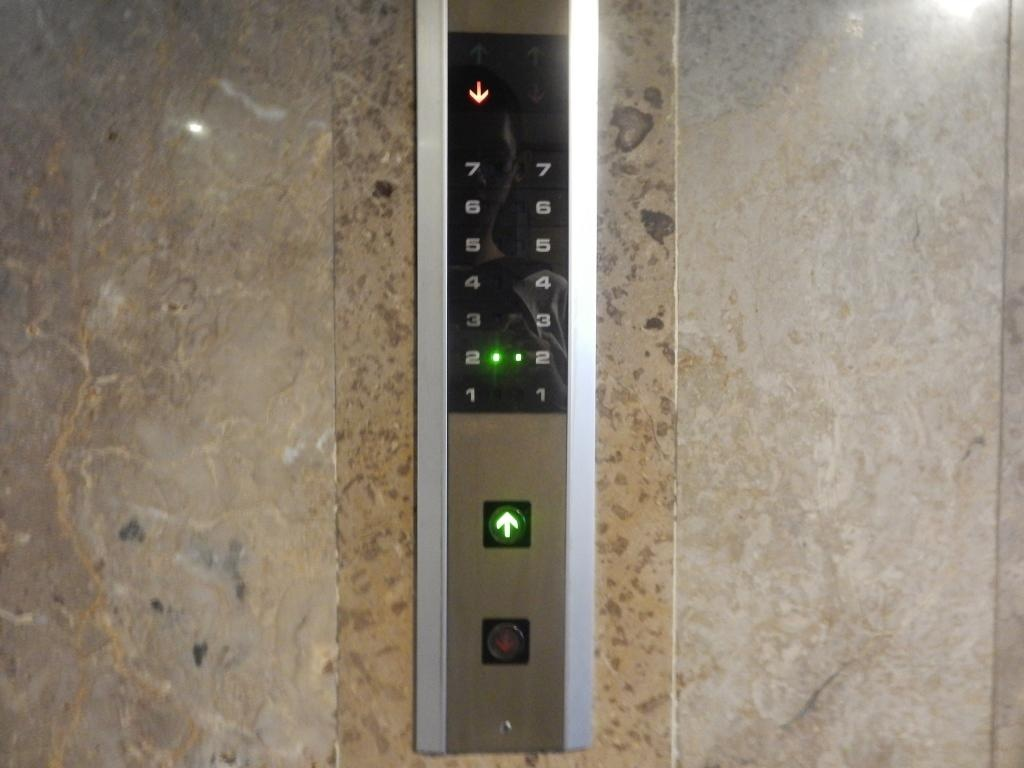down: (478, 614, 535, 669)
led: (443, 25, 572, 418)
up: (478, 496, 537, 554)
